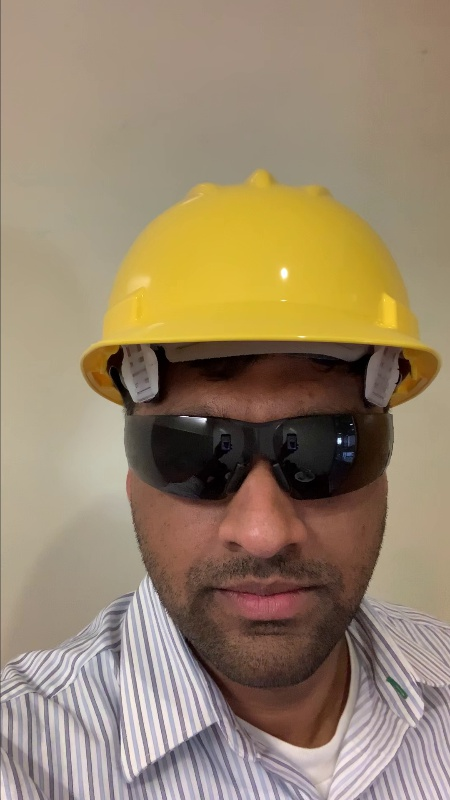glasses: (110, 409, 406, 498)
helmet: (51, 163, 442, 412)
